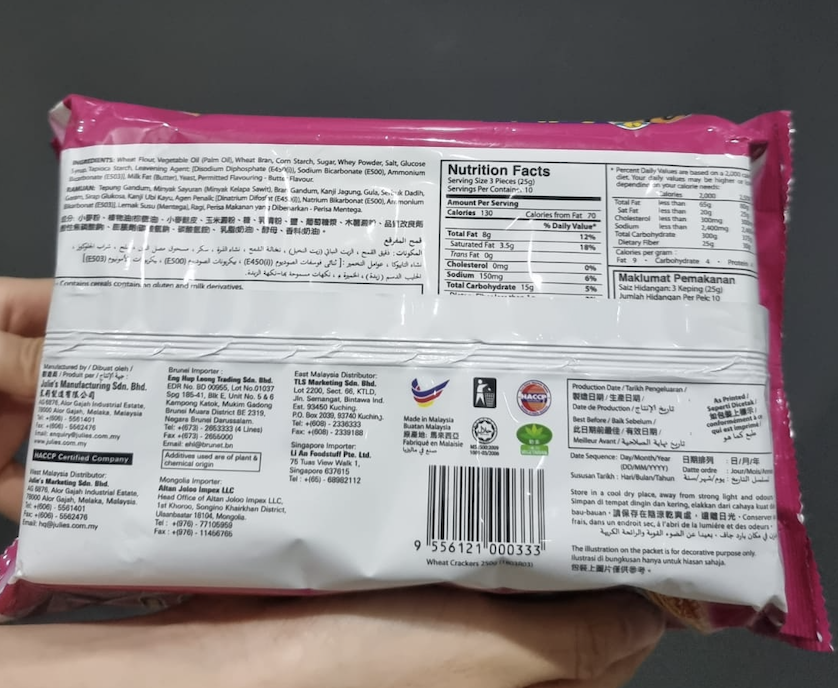Halal: (474, 420, 497, 440)
